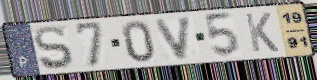0: (120, 18, 157, 65)
5: (202, 10, 242, 60)
7: (73, 21, 105, 70)
K: (242, 11, 281, 53)
S: (32, 24, 76, 71)
V: (153, 15, 195, 62)
